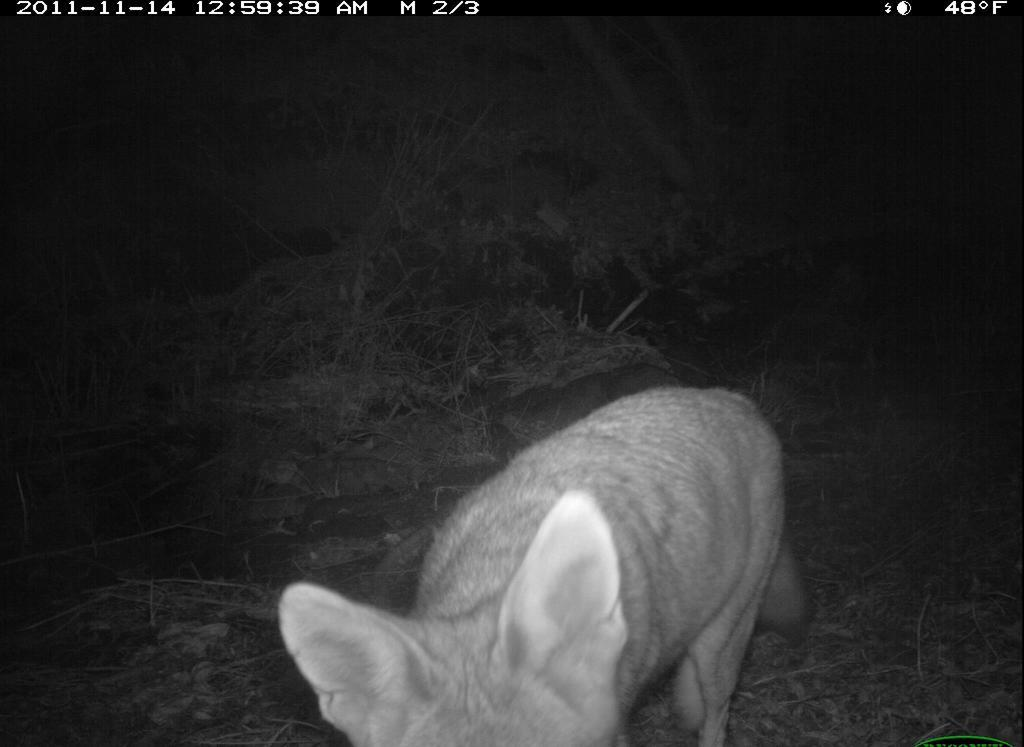coyote: (277, 377, 821, 740)
